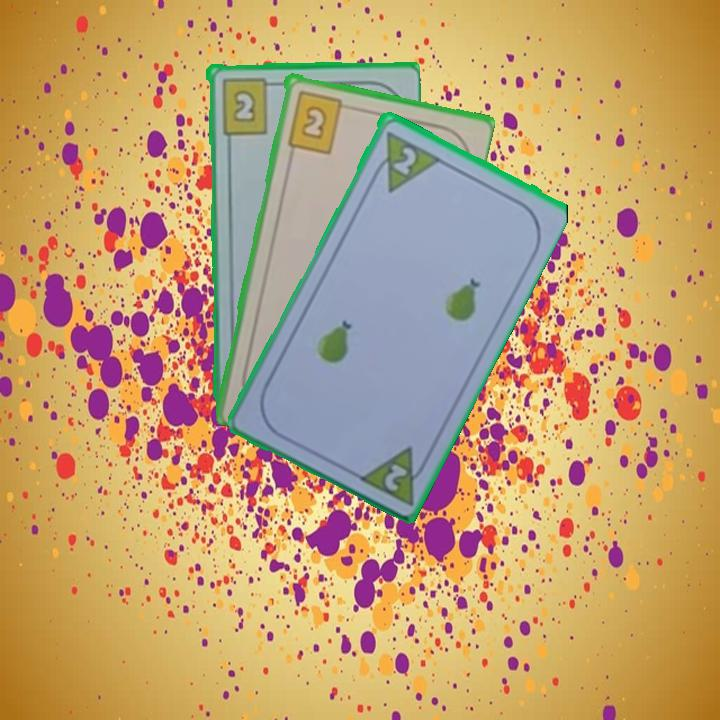2b: (283, 87, 353, 156), (218, 75, 279, 136)
2p: (366, 126, 441, 194), (380, 459, 410, 494)
